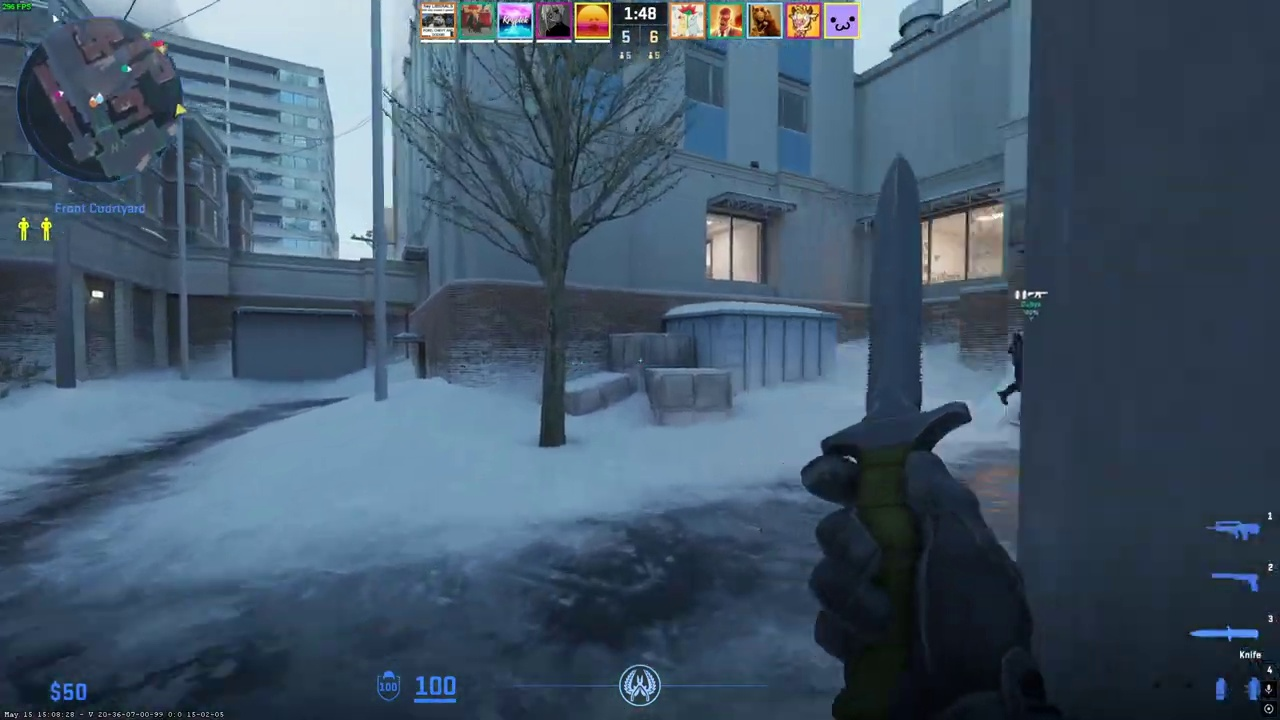CT: (999, 327, 1026, 407)
